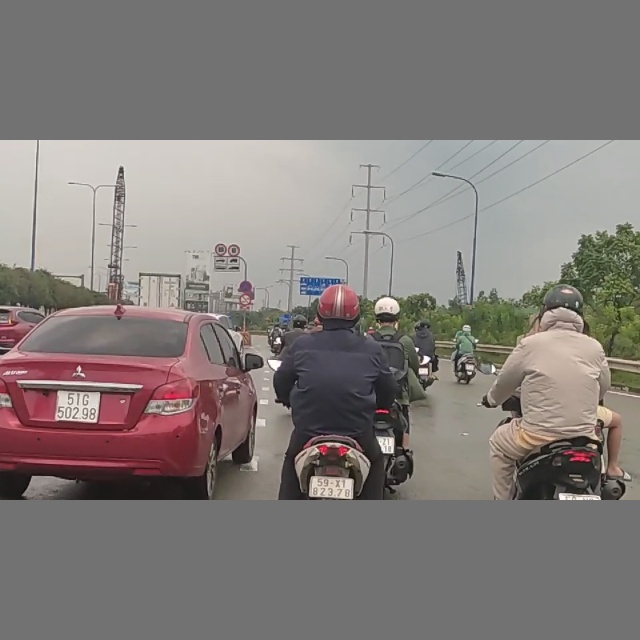P.130: (239, 280, 253, 293)
